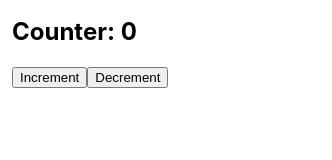
Test: Counter component › increments the count when the increment button is clicked
The width and height of the screenshot is (332, 160).
Click the button "Increment".
click(50, 77)  # box [12,67,87,88]
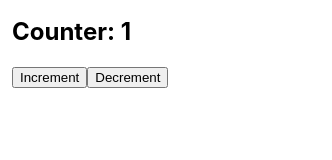
Expected: the heading "Counter: 0" reads "Counter: 1", [12,17,131,46]
